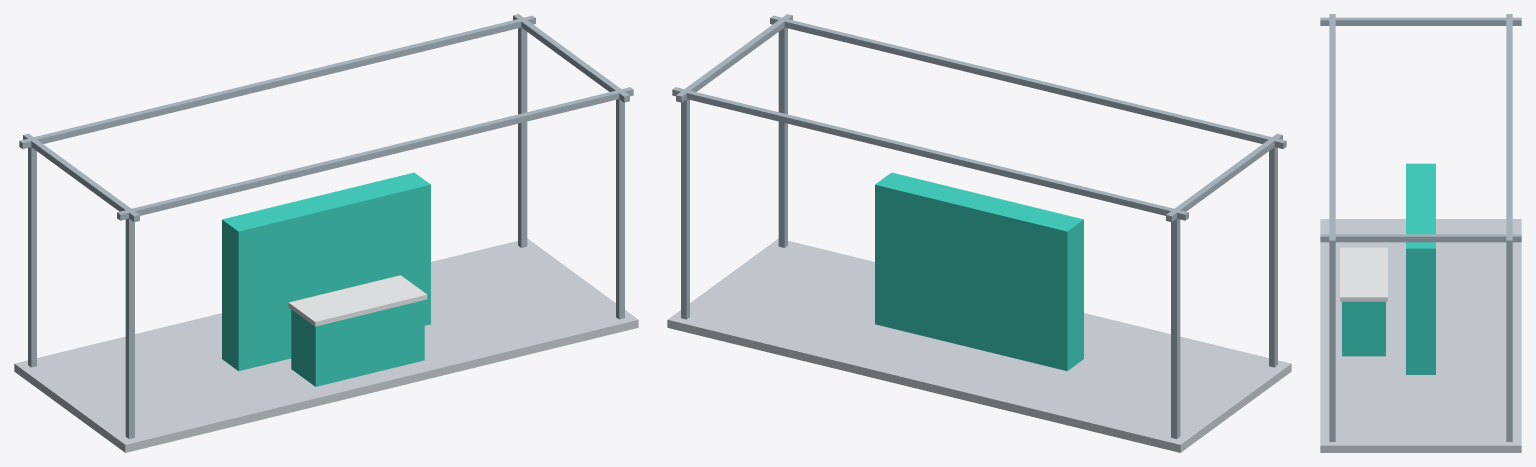
3 views of the same model, side by side, from view 1: azimuth 30°, elevation 25°; view 2: azimuth 150°, elevation 25°; view 3: azimuth 270°, elevation 25° (orthographic). The views are drawn at different scales.
Parts seen in each view (by area): view 1: Exhibition Booth Concept; view 2: Exhibition Booth Concept; view 3: Exhibition Booth Concept.
Boxes of the visible parts, x1,y1,x2,y2 form: Exhibition Booth Concept: [14, 14, 638, 452]; Exhibition Booth Concept: [667, 14, 1291, 452]; Exhibition Booth Concept: [1320, 14, 1521, 452].
Size of the model in its own units: 8 by 3.49 by 3.
